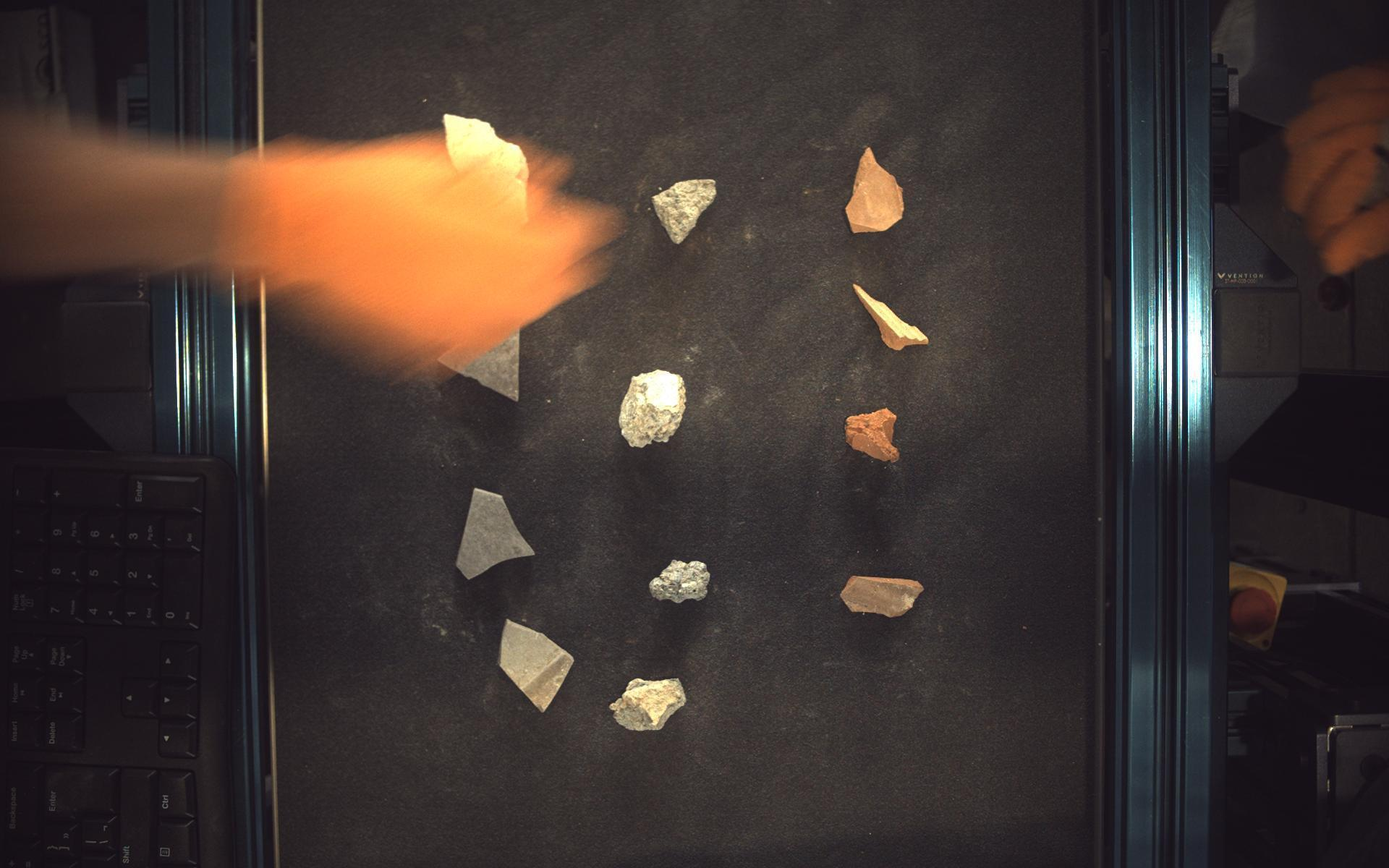brick: (847, 147, 906, 232), (856, 283, 930, 350), (842, 576, 925, 618), (849, 409, 901, 462)
concrete: (620, 370, 687, 448), (653, 179, 718, 243), (611, 680, 687, 732), (650, 561, 711, 604)
tile: (456, 488, 535, 580), (499, 621, 574, 712), (459, 337, 519, 401)
